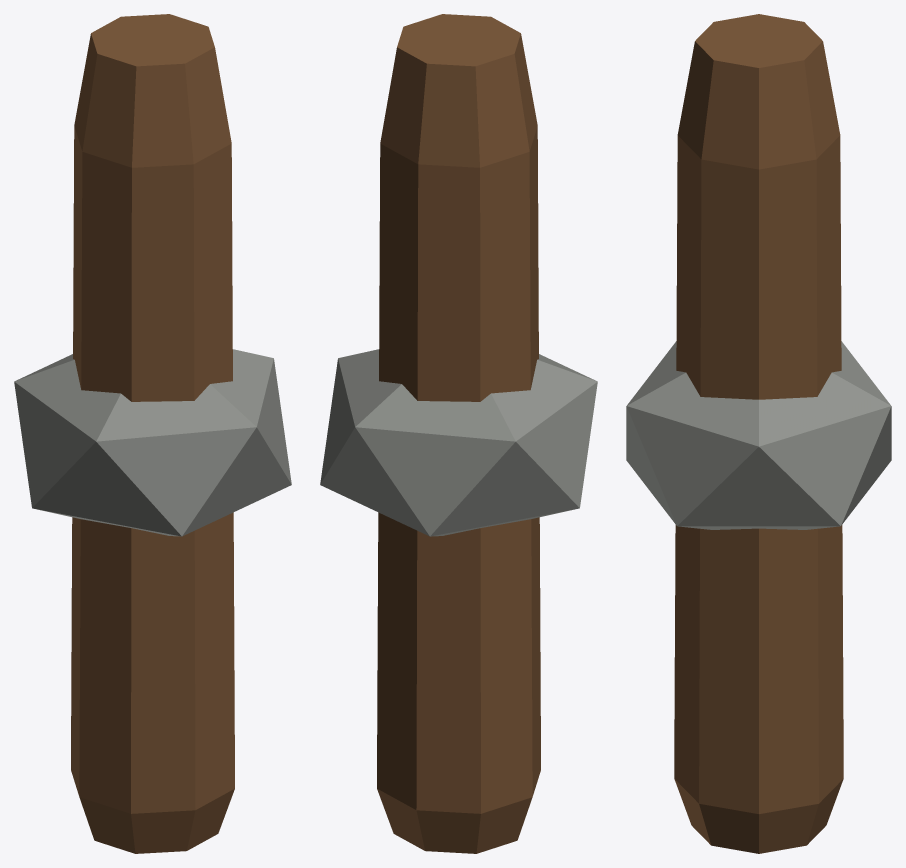
File: campfire.glb
3 renders of one model, left to right at view 1: azimuth 30°, elevation 25°; view 2: azimuth 150°, elevation 25°; view 3: azimuth 270°, elevation 25°, orthographic.
Visible parts, largest first — view 1: campfire_log, campfire_stone; view 2: campfire_log, campfire_stone; view 3: campfire_log, campfire_stone.
Part boxes in pixels (<box>): campfire_log: <box>71,14,234,853</box>; campfire_stone: <box>14,349,291,536</box>; campfire_log: <box>377,14,540,853</box>; campfire_stone: <box>320,349,597,536</box>; campfire_log: <box>674,14,843,853</box>; campfire_stone: <box>626,341,891,529</box>.
Bounding box in the file's own units: 0.161 × 0.5 × 0.1531.
